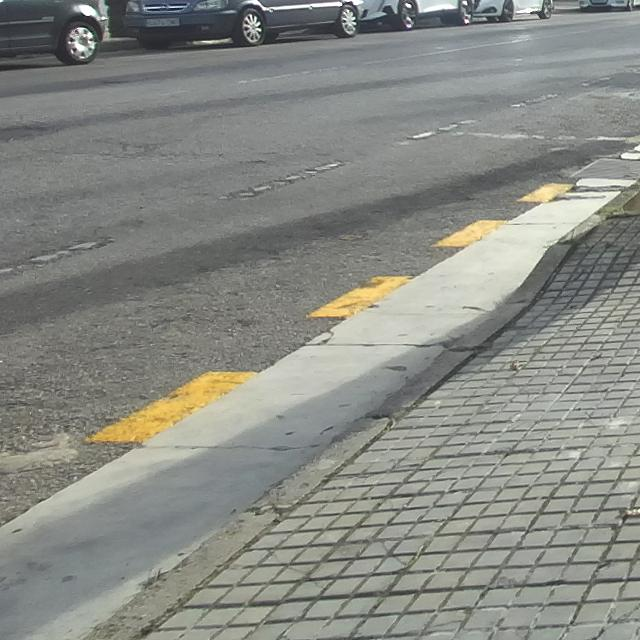calcada_quebrada: (262, 551, 328, 598), (585, 600, 640, 640), (372, 537, 415, 571)
